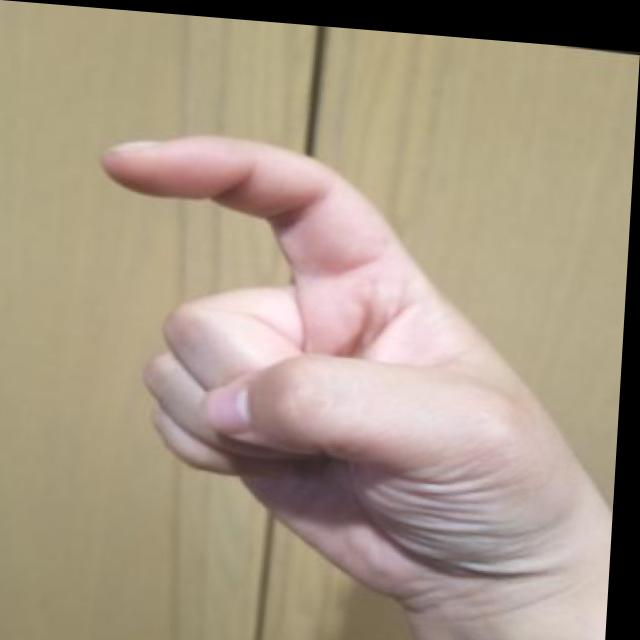X: (67, 96, 634, 631)
